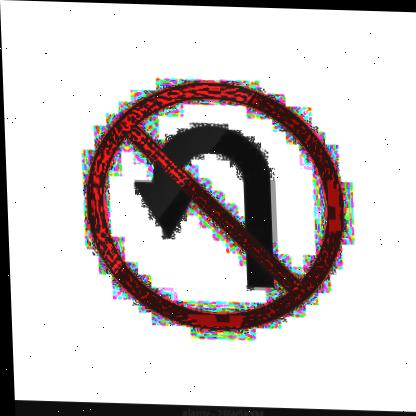No U-turn: (78, 68, 343, 336)
